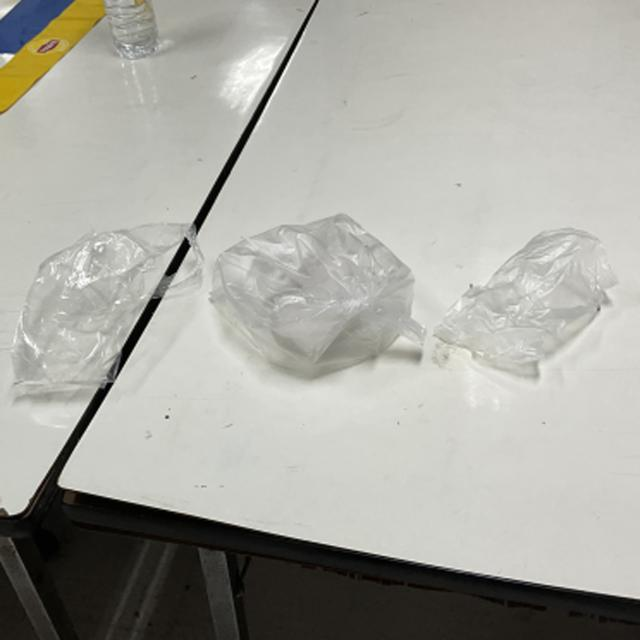Single-layer Plastic: (210, 214, 425, 376), (11, 224, 202, 394), (435, 228, 618, 376)
